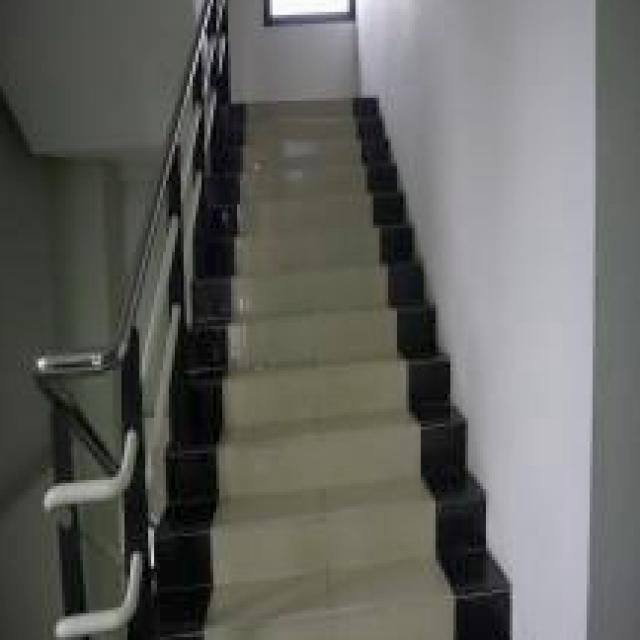upstair: (221, 81, 449, 640)
